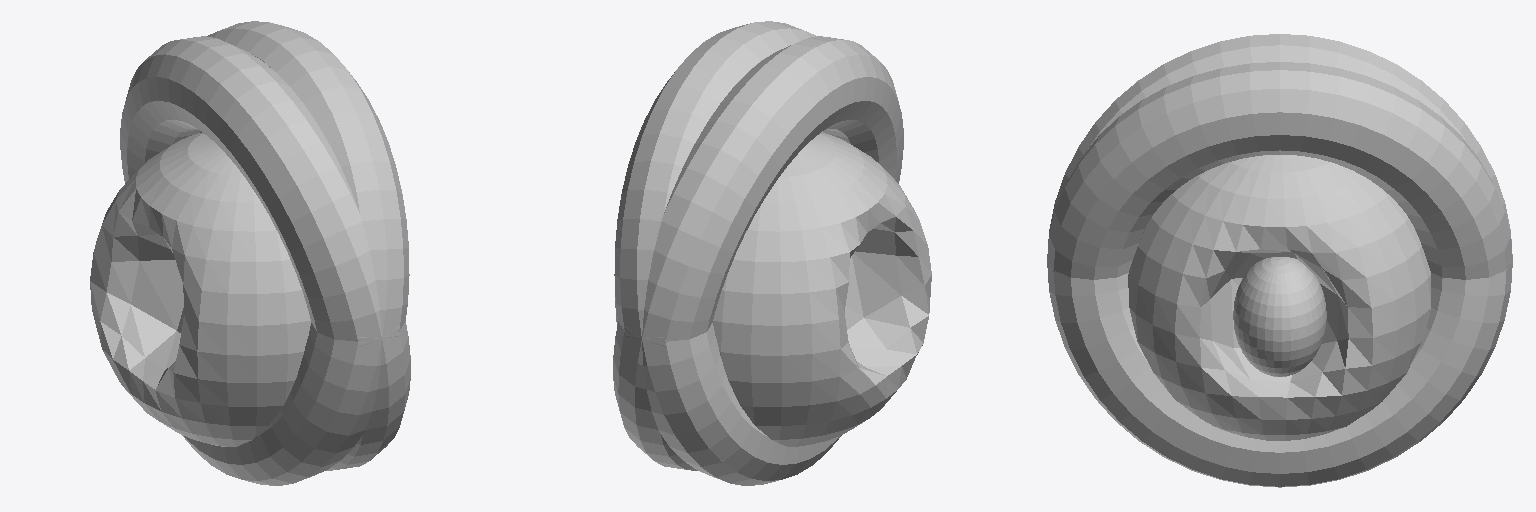
File: Eye_alone.obj
The picture shows the model from 3 angles: view 1: azimuth 30°, elevation 25°; view 2: azimuth 150°, elevation 25°; view 3: azimuth 270°, elevation 25°; orthographic projection.
Visible parts, largest first — view 1: Eye_lid_Torus.010, eye_ball_Sphere.004; view 2: Eye_lid_Torus.010, eye_ball_Sphere.004; view 3: Eye_lid_Torus.010, eye_ball_Sphere.004, pupil_Sphere.005.
Part boxes in pixels (x1,y1,x2,y2): Eye_lid_Torus.010: (120,21,410,485); eye_ball_Sphere.004: (90,132,310,446); Eye_lid_Torus.010: (613,21,903,485); eye_ball_Sphere.004: (615,132,931,446); Eye_lid_Torus.010: (1047,34,1512,487); eye_ball_Sphere.004: (1128,155,1430,440); pupil_Sphere.005: (1233,257,1326,376).
Size of the model in its own units: 1.78 by 2.82 by 2.86.